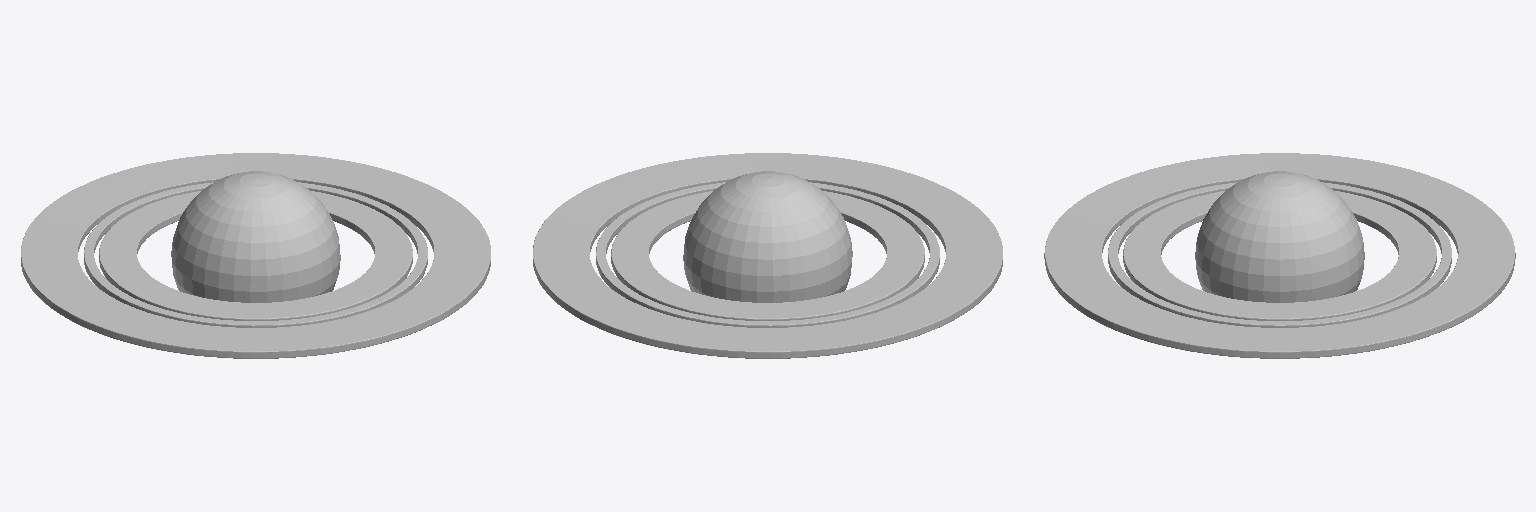
Rendered from Planet.obj.
The picture shows the model from 3 angles: view 1: azimuth 30°, elevation 25°; view 2: azimuth 150°, elevation 25°; view 3: azimuth 270°, elevation 25°; orthographic projection.
Visible parts, largest first — view 1: Planet_Circle.003; view 2: Planet_Circle.003; view 3: Planet_Circle.003.
Boxes of the visible parts, x1,y1,x2,y2 form: Planet_Circle.003: [21, 153, 490, 358]; Planet_Circle.003: [533, 153, 1002, 358]; Planet_Circle.003: [1044, 153, 1515, 358].
Size of the model in its own units: 5.54 by 2 by 5.54.